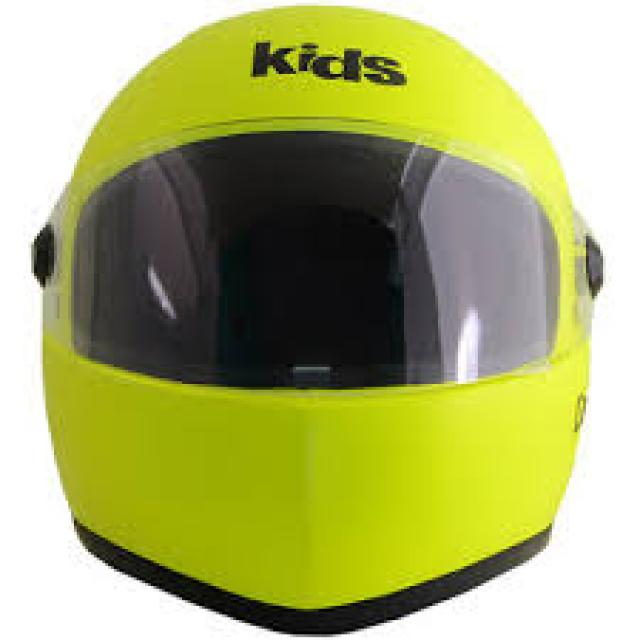Helmet: (35, 8, 601, 632)
